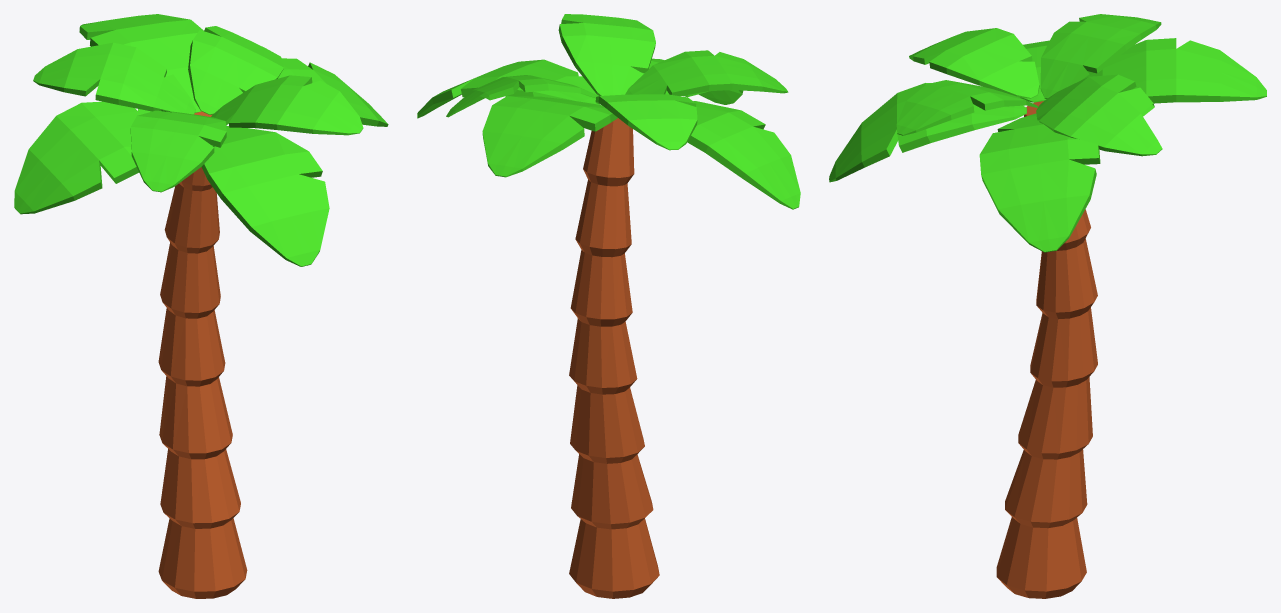
File: Palmera.glb
The picture shows the model from 3 angles, left to right: view 1: azimuth 30°, elevation 25°; view 2: azimuth 150°, elevation 25°; view 3: azimuth 270°, elevation 25°; orthographic projection. The views are drawn at different scales.
Visible parts, largest first — view 1: Low Poly Palm Tree; view 2: Low Poly Palm Tree; view 3: Low Poly Palm Tree.
Part boxes in pixels (x1,y1,x2,y2): Low Poly Palm Tree: (14,14,388,598); Low Poly Palm Tree: (417,14,800,598); Low Poly Palm Tree: (829,14,1266,598).
Bounding box in the file's own units: 5.68 × 7.63 × 5.71.
